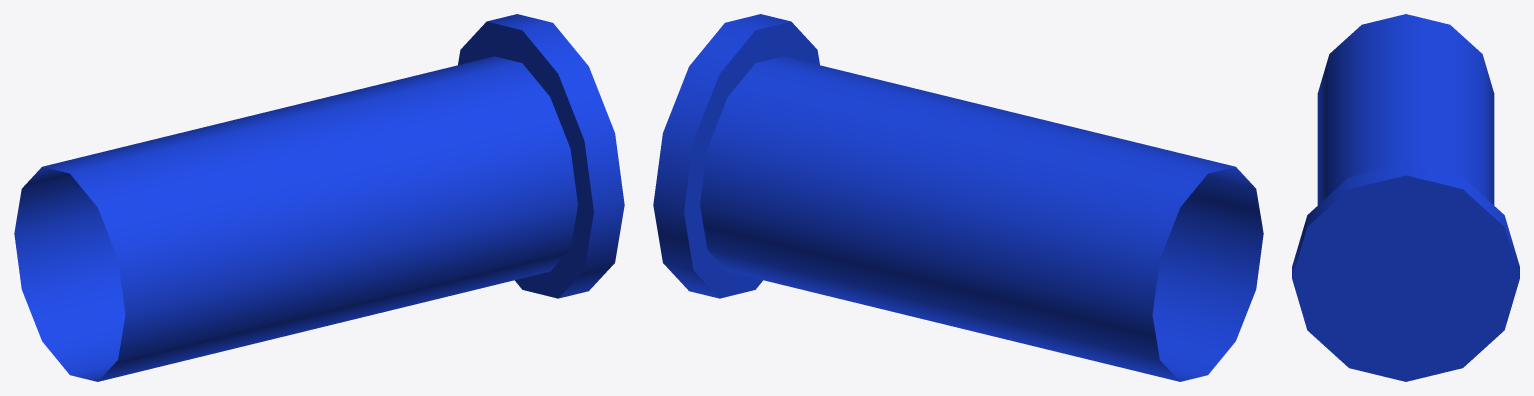
File: pipe6.fbx
The picture shows the model from 3 angles, left to right: view 1: azimuth 30°, elevation 25°; view 2: azimuth 150°, elevation 25°; view 3: azimuth 270°, elevation 25°; orthographic projection. The views are drawn at different scales.
Parts seen in each view (by area): view 1: 1.004; view 2: 1.004; view 3: 1.004.
Boxes of the visible parts, <box> form: 1.004: <box>14,14,624,381</box>; 1.004: <box>653,14,1263,381</box>; 1.004: <box>1292,14,1519,381</box>.
Bounding box in the file's own units: 3552 × 1823 × 1823.
